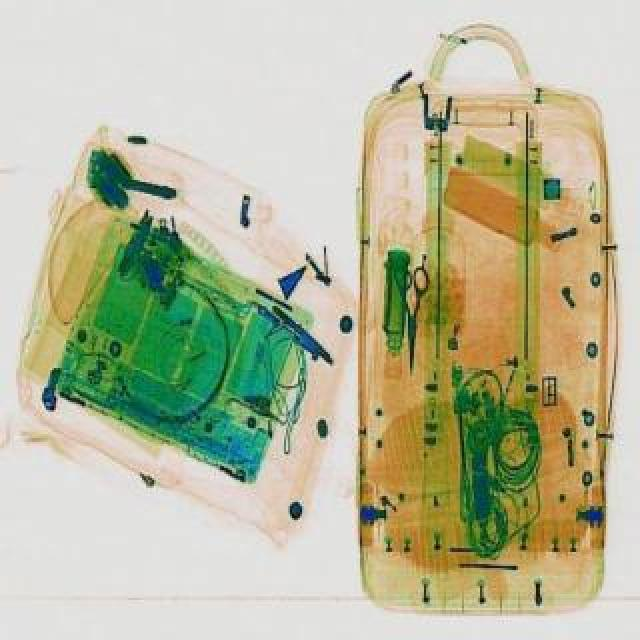pliers: (390, 270, 430, 376)
